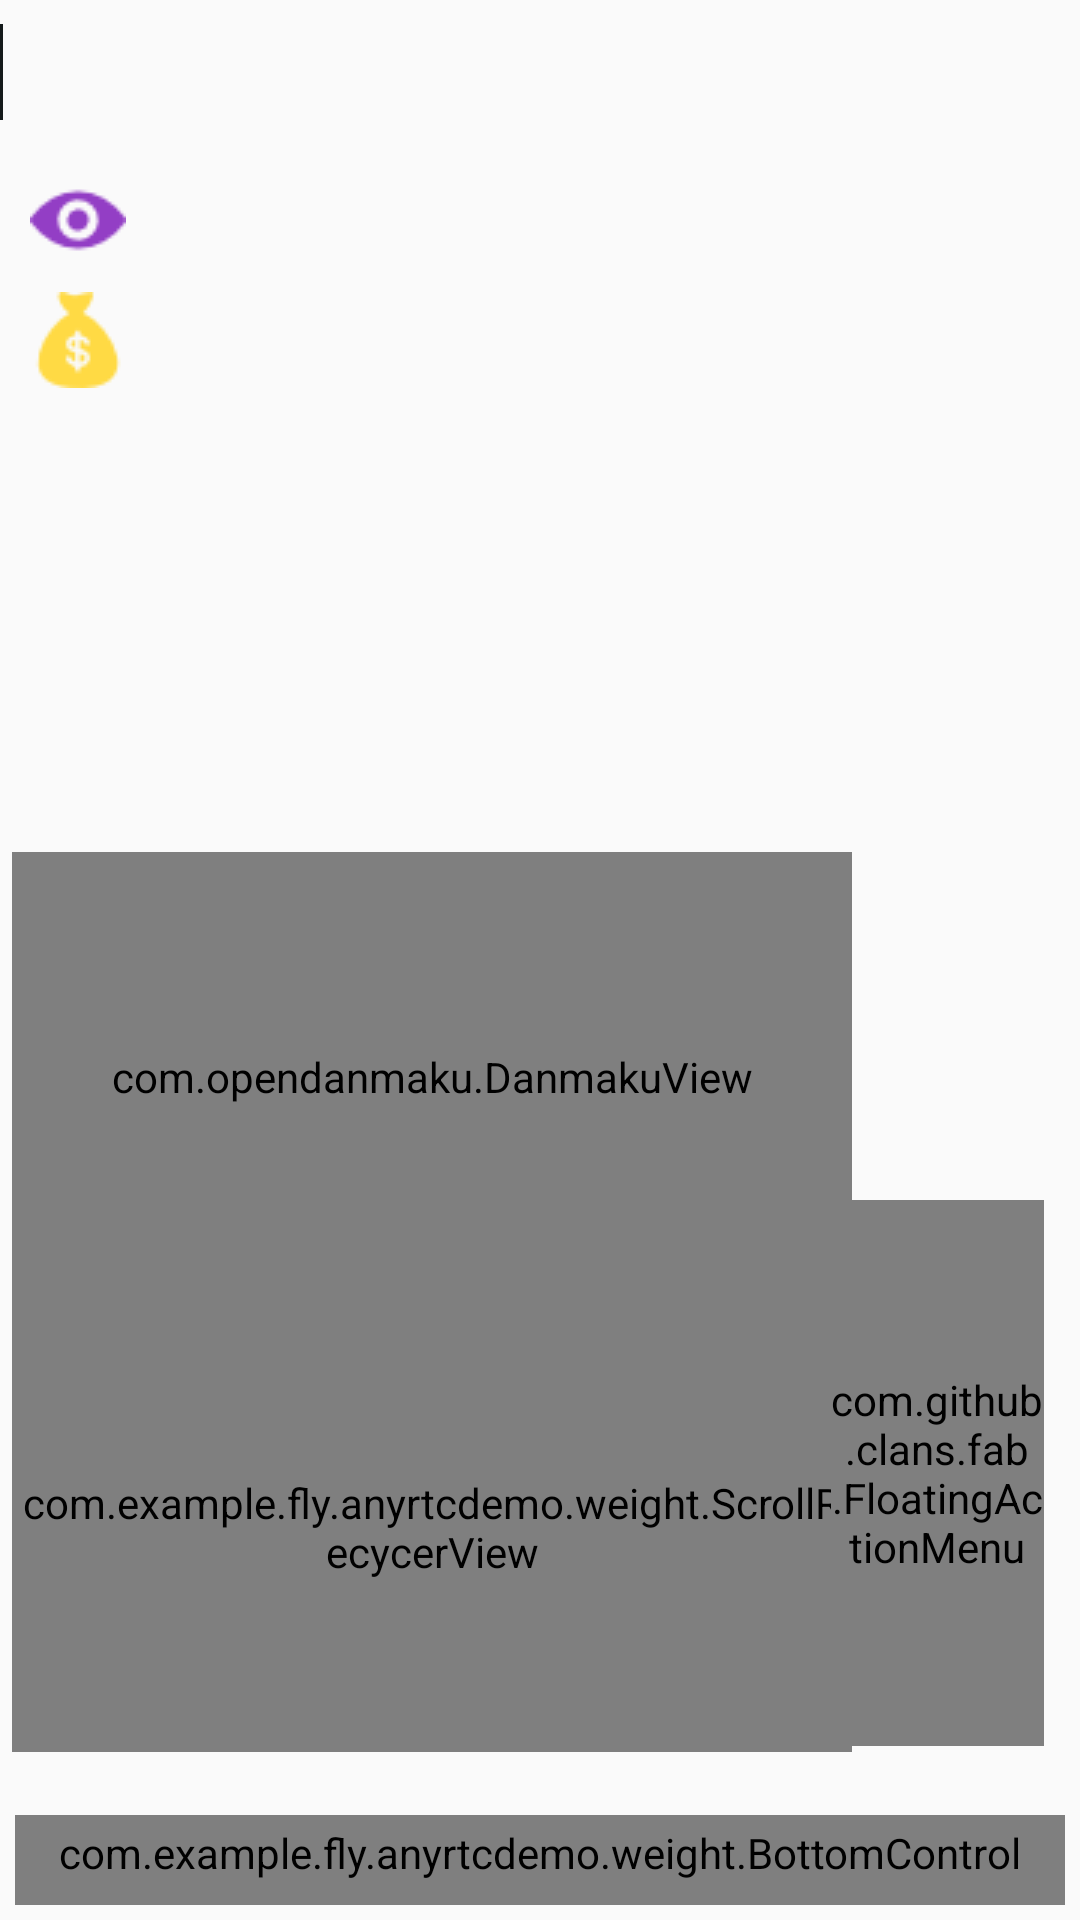

Icons on this 1080 × 1920 Android screen, each with its box as [left=x1, top=y1, right=x2, bottom=y2]:
eye: [left=30, top=189, right=126, bottom=251]
money bag: [left=37, top=292, right=120, bottom=388]
